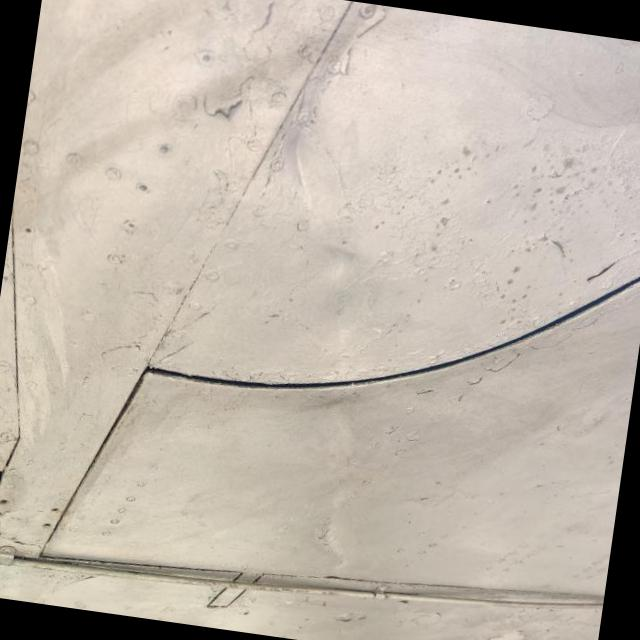Dent: (273, 476, 373, 582)
